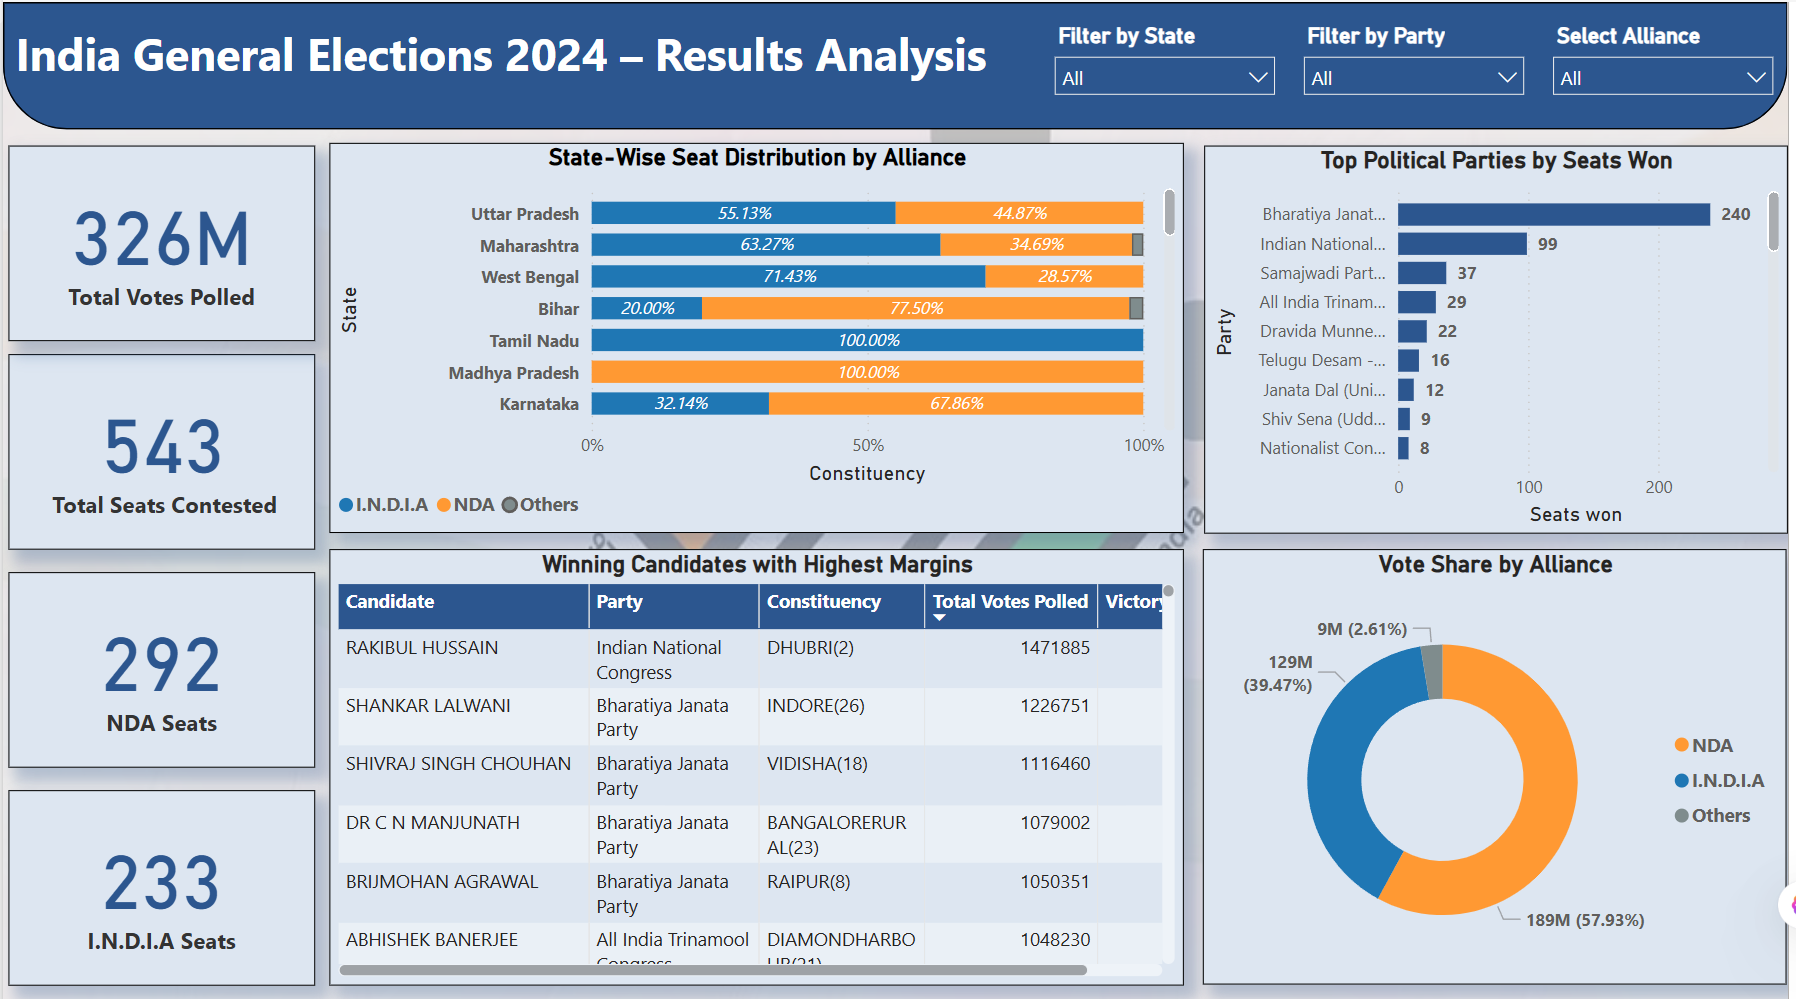

Layout of this report page (visuals, bound fields, positions):
{"tool":"powerbi","page":{"name":"Page 1","canvas":[1280,720],"ordinal":0},"visuals":[{"type":"card","fields":{"Values":["constituencywise_details.Constituency ID"]},"box":[4.3,252.9,220,140],"z":0},{"type":"card","fields":{"Values":["party_alliance_mapping.Measure"]},"box":[4.3,408.6,220,140],"z":1000},{"type":"card","fields":{"Values":["party_alliance_mapping.I.N.D.I.A Seats"]},"box":[3.8,565,220,140],"z":2000},{"type":"card","fields":{"Values":["constituencywise_results.Total Votes Polled"]},"box":[4.3,102.9,220,140],"z":3000},{"type":"hundredPercentStackedBarChart","title":"State-Wise Seat Distribution by Alliance","fields":{"Category":["constituencywise_results.State"],"Y":["constituencywise_results.Constituency"],"Series":["Merge1.Party Alliance"]},"box":[234.3,101.4,612.9,280],"z":4000},{"type":"barChart","title":"Top Political Parties by Seats Won","fields":{"Category":["partywise_results.Party"],"Y":["partywise_results.Won"]},"box":[861.4,102.9,418.6,278.6],"z":5000},{"type":"shape","box":[0,0,1280,91.4],"z":6000},{"type":"textbox","box":[4.3,10,740,62.9],"z":7000},{"type":"tableEx","title":"Winning Candidates with Highest Margins","fields":{"Values":["constituencywise_details.Candidate","constituencywise_details.Party","constituencywise_results.Constituency","constituencywise_details.Total Votes Polled","constituencywise_results.Victory Margin"]},"box":[234.3,392.9,612.9,312.9],"z":8000},{"type":"donutChart","title":"Vote Share by Alliance","fields":{"Y":["constituencywise_results.Total Votes Polled"],"Category":["Merge1.Party Alliance"]},"box":[861,392,419,312],"z":9000},{"type":"slicer","fields":{"Values":["statewise_results.State"]},"box":[744.3,10,178.6,61.4],"z":10000},{"type":"slicer","fields":{"Values":["Merge1.Party Alliance"]},"box":[1101.4,10,178.6,61.4],"z":11000},{"type":"slicer","fields":{"Values":["constituencywise_details.Party"]},"box":[922.9,10,178.6,61.4],"z":12000}]}

Visuals, with their boxes in screenshot pixels (x1, y1, x2, y2), scaled from the page's 1280x720 canvas onto the 1796x999 screenshot:
card - constituencywise_details.Constituency ID: select_region(6, 351, 315, 545)
card - party_alliance_mapping.Measure: select_region(6, 567, 315, 761)
card - party_alliance_mapping.I.N.D.I.A Seats: select_region(5, 784, 314, 978)
card - constituencywise_results.Total Votes Polled: select_region(6, 143, 315, 337)
"State-Wise Seat Distribution by Alliance" hundredPercentStackedBarChart: select_region(329, 141, 1189, 529)
"Top Political Parties by Seats Won" barChart: select_region(1209, 143, 1795, 529)
shape: select_region(0, 0, 1795, 127)
textbox: select_region(6, 14, 1044, 101)
"Winning Candidates with Highest Margins" tableEx: select_region(329, 545, 1189, 979)
"Vote Share by Alliance" donutChart: select_region(1208, 544, 1795, 977)
slicer - statewise_results.State: select_region(1044, 14, 1295, 99)
slicer - Merge1.Party Alliance: select_region(1545, 14, 1795, 99)
slicer - constituencywise_details.Party: select_region(1295, 14, 1546, 99)
